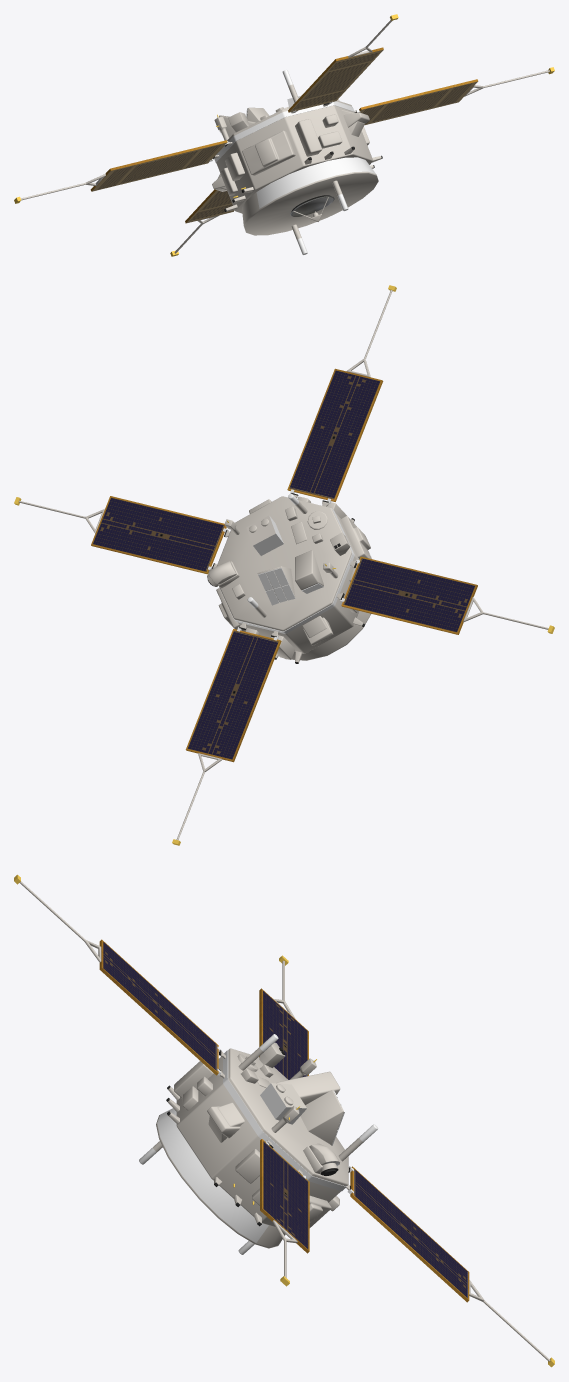
Rendered from ace.glb.
3 views of the same model, one above another, from view 1: azimuth 30°, elevation 25°; view 2: azimuth 150°, elevation 25°; view 3: azimuth 270°, elevation 25° (orthographic). The views are drawn at different scales.
Parts seen in each view (by area): view 1: BUS, solar_array, array_brace, dish; view 2: solar_array, BUS, intrument_metal, SIS; view 3: BUS, solar_array, array_brace, SIS.
Part boxes in pixels (left/top/right/bottom): BUS: left=212, top=70, right=382, bottom=255; solar_array: left=14, top=14, right=554, bottom=256; array_brace: left=214, top=101, right=354, bottom=162; dish: left=290, top=195, right=334, bottom=221; solar_array: left=14, top=285, right=554, bottom=845; BUS: left=207, top=494, right=371, bottom=663; intrument_metal: left=258, top=568, right=323, bottom=605; SIS: left=246, top=515, right=283, bottom=555; BUS: left=139, top=1034, right=377, bottom=1254; solar_array: left=14, top=874, right=554, bottom=1367; array_brace: left=223, top=1049, right=346, bottom=1191; SIS: left=260, top=1083, right=306, bottom=1124.
Size of the model in its own units: 100 by 71.18 by 71.18.
7 materials, 1 textured.
